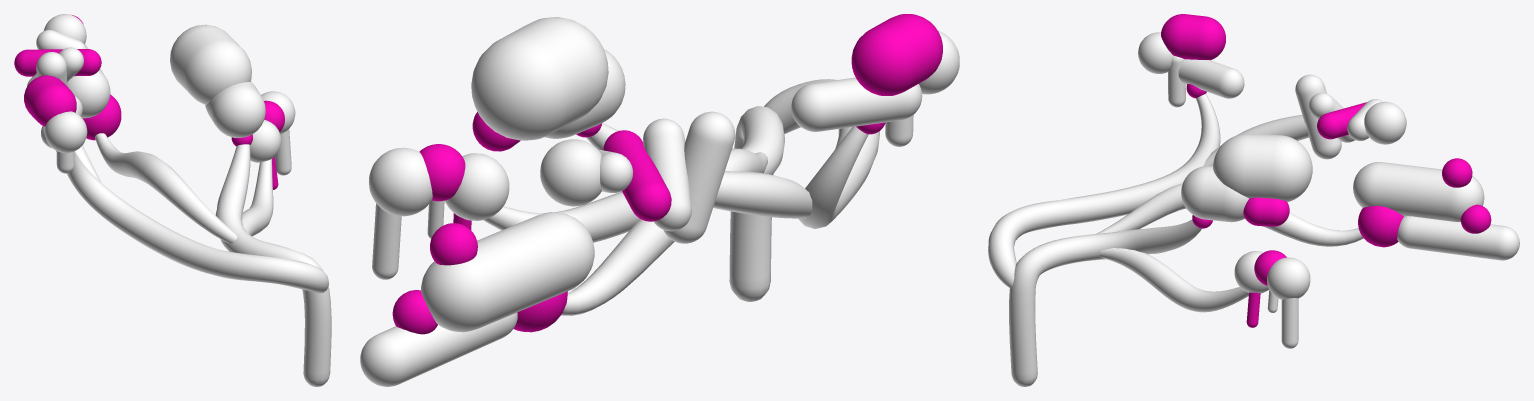
Rendered from tree_12.glb.
3 renders of one model, left to right at view 1: azimuth 30°, elevation 25°; view 2: azimuth 150°, elevation 25°; view 3: azimuth 270°, elevation 25°, orthographic. The views are drawn at different scales.
Parts seen in each view (by area): view 1: s.004; view 2: s.004; view 3: s.004.
Boxes of the visible parts, left/top/right/bottom form: s.004: left=14, top=14, right=331, bottom=386; s.004: left=360, top=14, right=959, bottom=386; s.004: left=988, top=14, right=1519, bottom=386.
Bounding box in the file's own units: 2.68 × 2.36 × 4.02.
